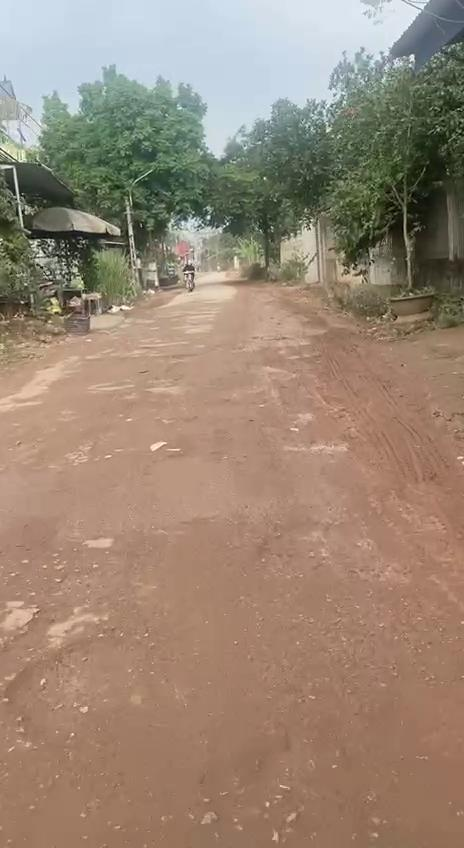pothole: (5, 620, 167, 754)
